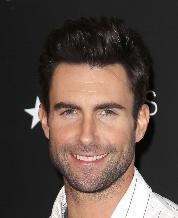face: (56, 101, 124, 168)
